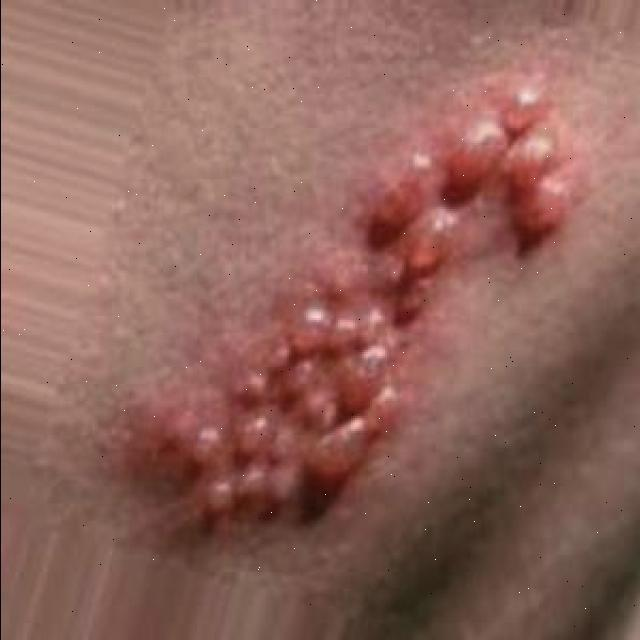Shingles: (162, 90, 572, 532)
